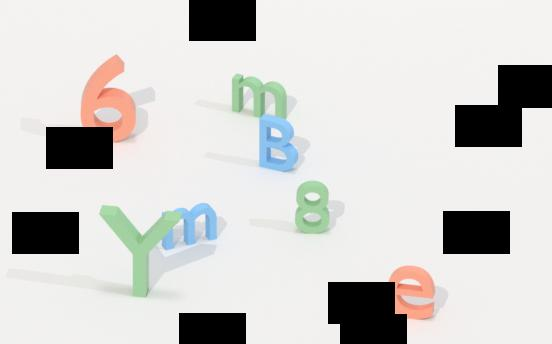6: (79, 50, 138, 146)
8: (292, 178, 333, 242)
Y-hoa: (95, 197, 183, 305)
b: (257, 112, 300, 177)
e: (384, 262, 437, 321)
m: (230, 69, 290, 124), (160, 199, 221, 249)
